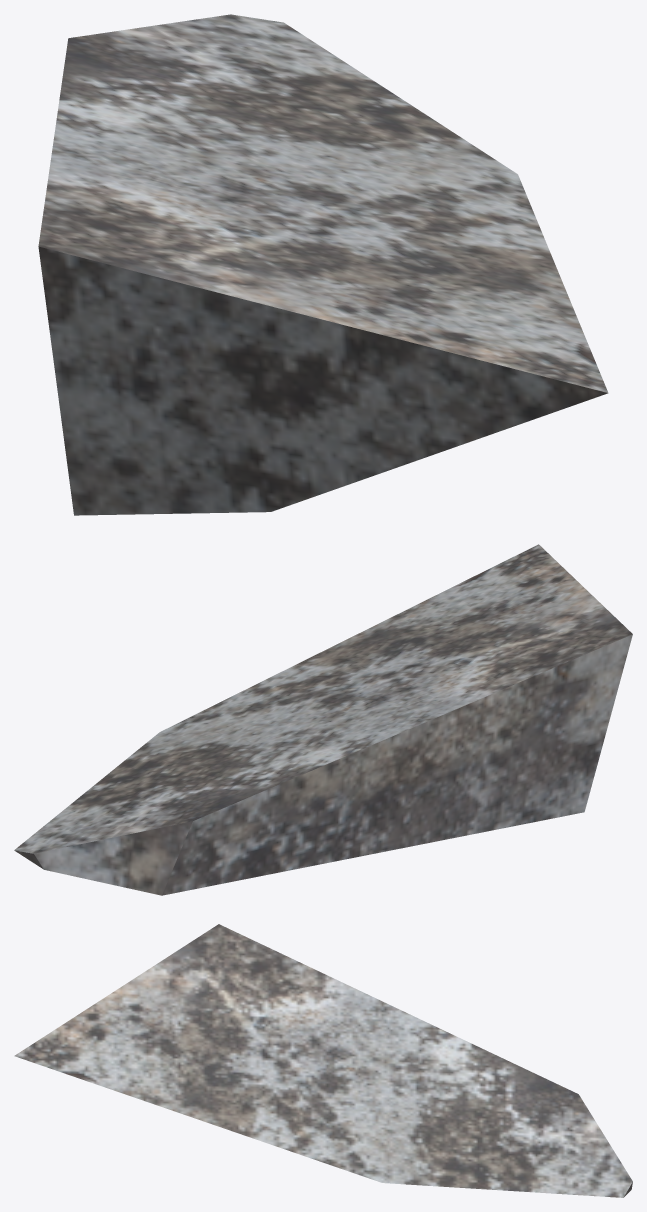
Rendered from Asteroid_Large_001_02_002_03_004.fbx.
3 views of the same model, one above another, from view 1: azimuth 30°, elevation 25°; view 2: azimuth 150°, elevation 25°; view 3: azimuth 270°, elevation 25° (orthographic). The views are drawn at different scales.
Parts seen in each view (by area): view 1: Asteroid_Large_001_02_002_03_004; view 2: Asteroid_Large_001_02_002_03_004; view 3: Asteroid_Large_001_02_002_03_004.
Part boxes in pixels (bbox=[...]): Asteroid_Large_001_02_002_03_004: bbox=[38, 14, 608, 515]; Asteroid_Large_001_02_002_03_004: bbox=[14, 544, 632, 895]; Asteroid_Large_001_02_002_03_004: bbox=[14, 924, 632, 1197].
Bounding box in the file's own units: 6.3 × 2.79 × 10.39.
